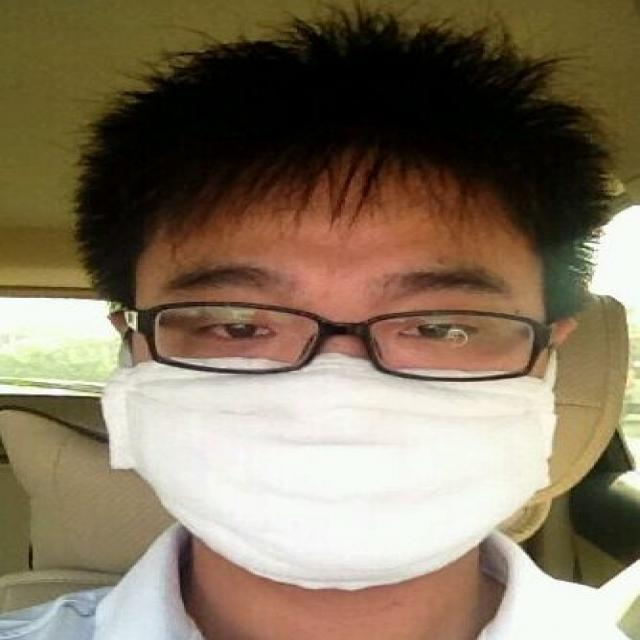mask: (103, 177, 556, 590)
